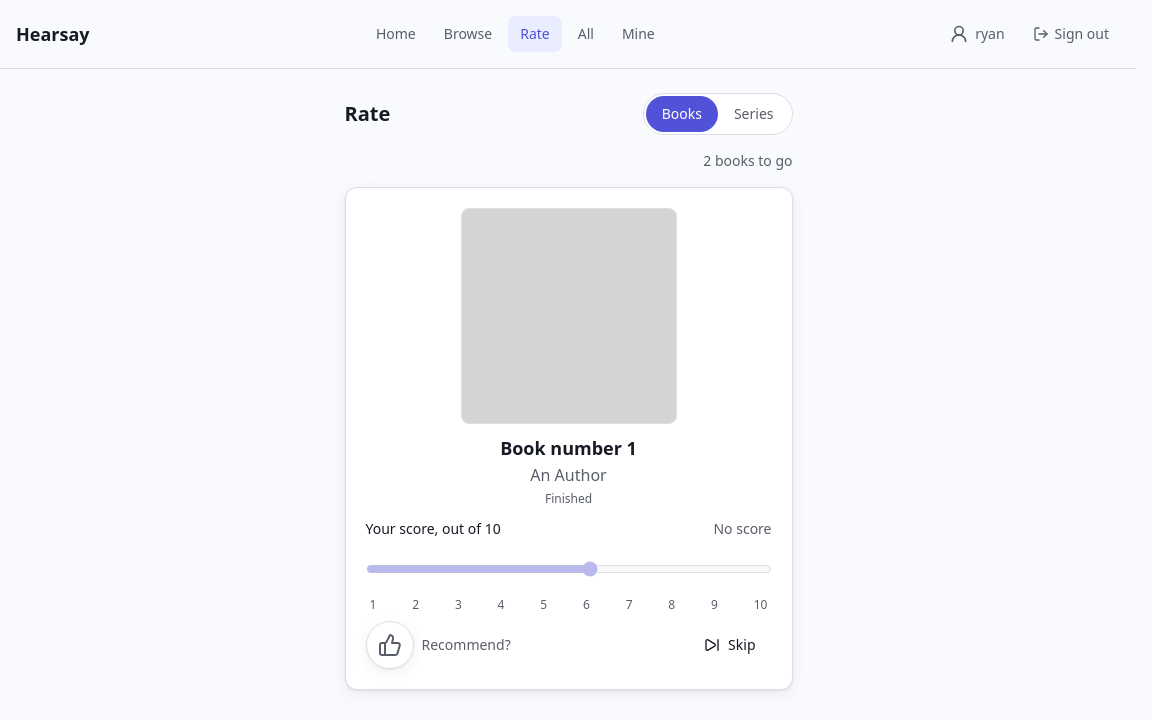
Test: the Rate tab › turns Skip into Submit once the thumbs is up, and recommends without a score
The width and height of the screenshot is (1152, 720).
Expected: the button "Submit" is not shown
What coordinates should you click on to do the following:
click the button named "Recommend Book number 1"
I would click on:
 (390, 645)
Its box is [366, 621, 414, 669].
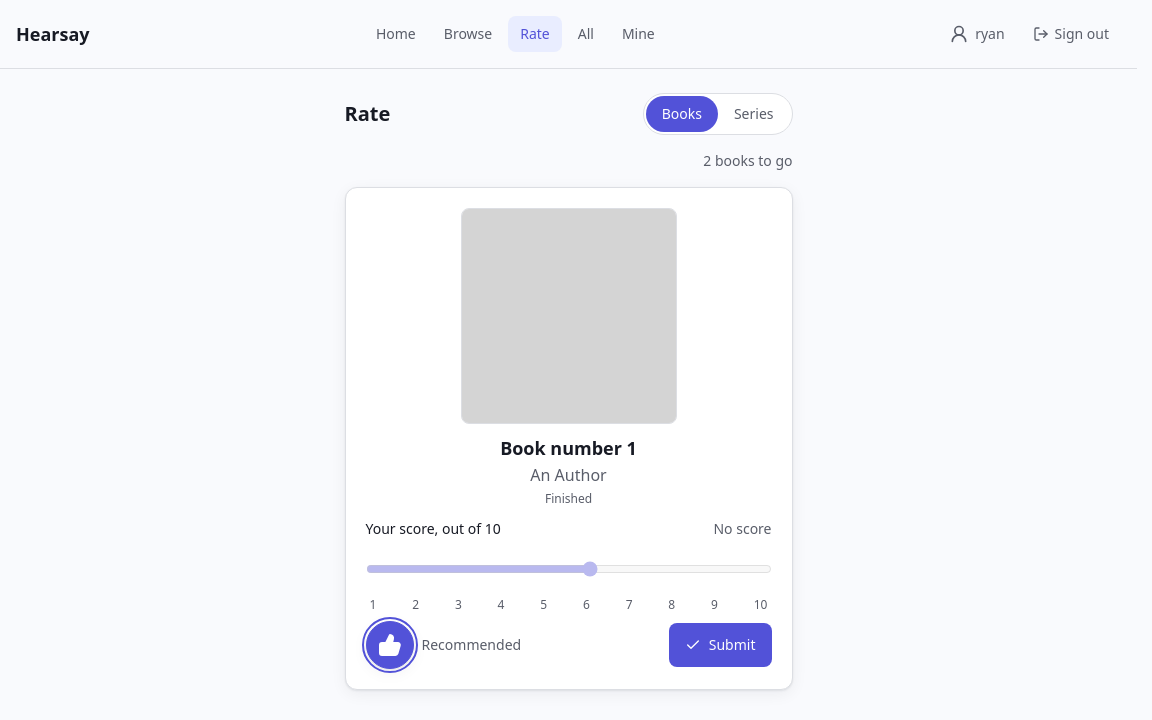
Note: turning it off again brings Skip back
What coordinates should you click on to do the following:
click the button named "Recommend Book number 1"
I would click on:
 (390, 645)
Its box is [366, 621, 414, 669].
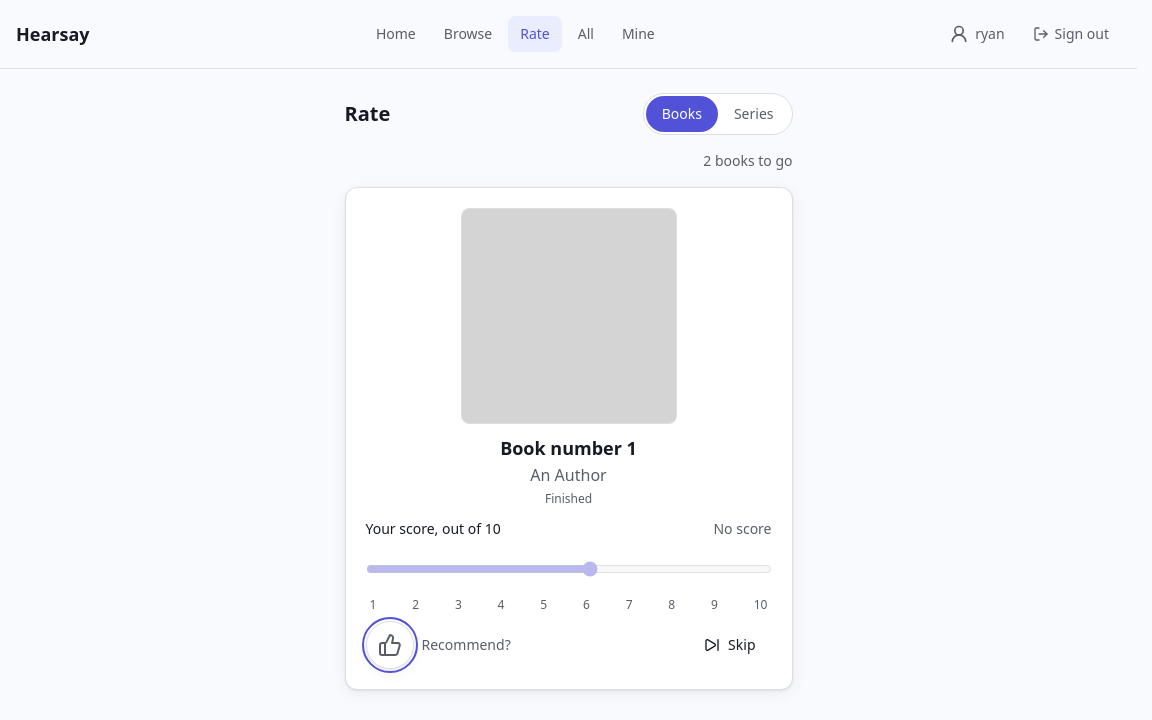
Result: the button "Skip" is shown at [688, 623, 772, 667]
What coordinates should you click on to do the following:
click the button named "Recommend Book number 1"
I would click on:
 (390, 645)
Its box is [366, 621, 414, 669].
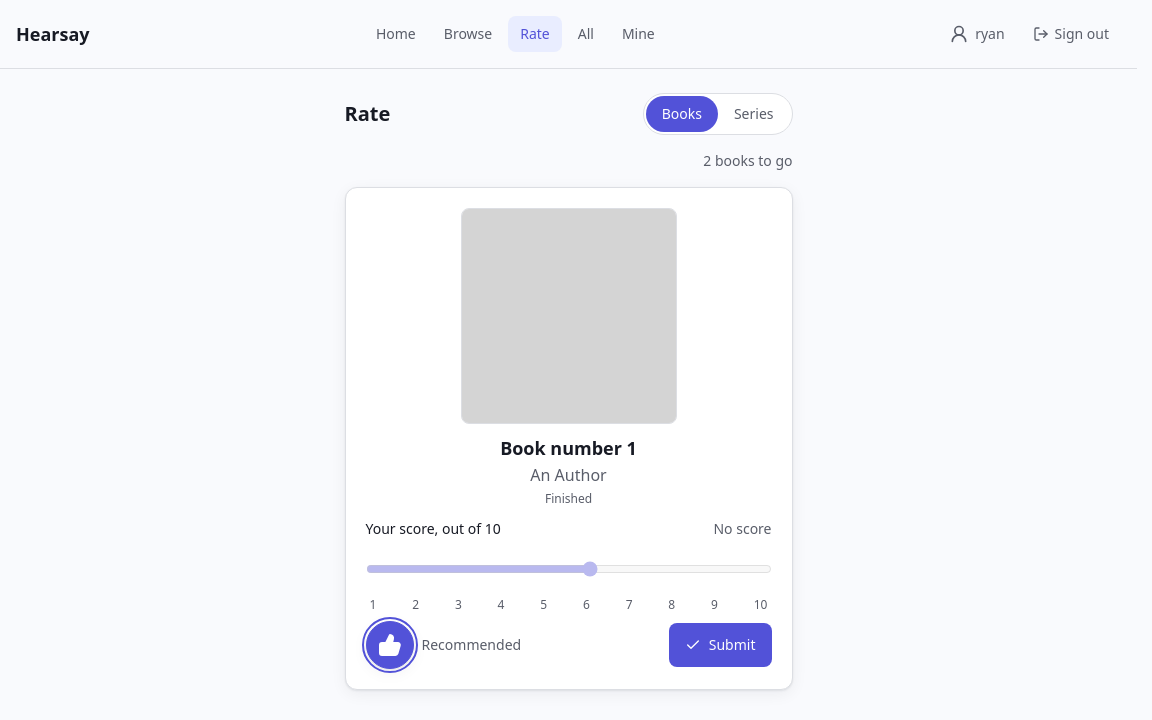
What coordinates should you click on to do the following:
click the button "Submit"
I would click on:
 (720, 645)
Its box is [669, 623, 772, 667].
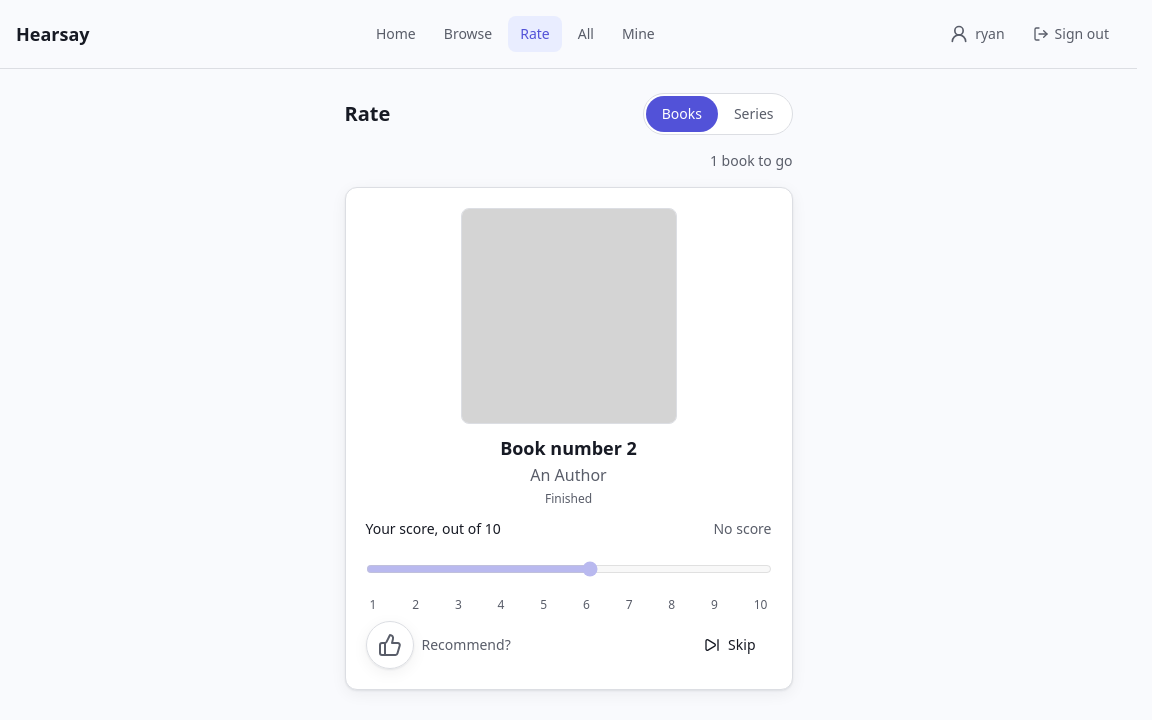
Result: the element "Book number 2" is shown at [344, 187, 792, 690]
